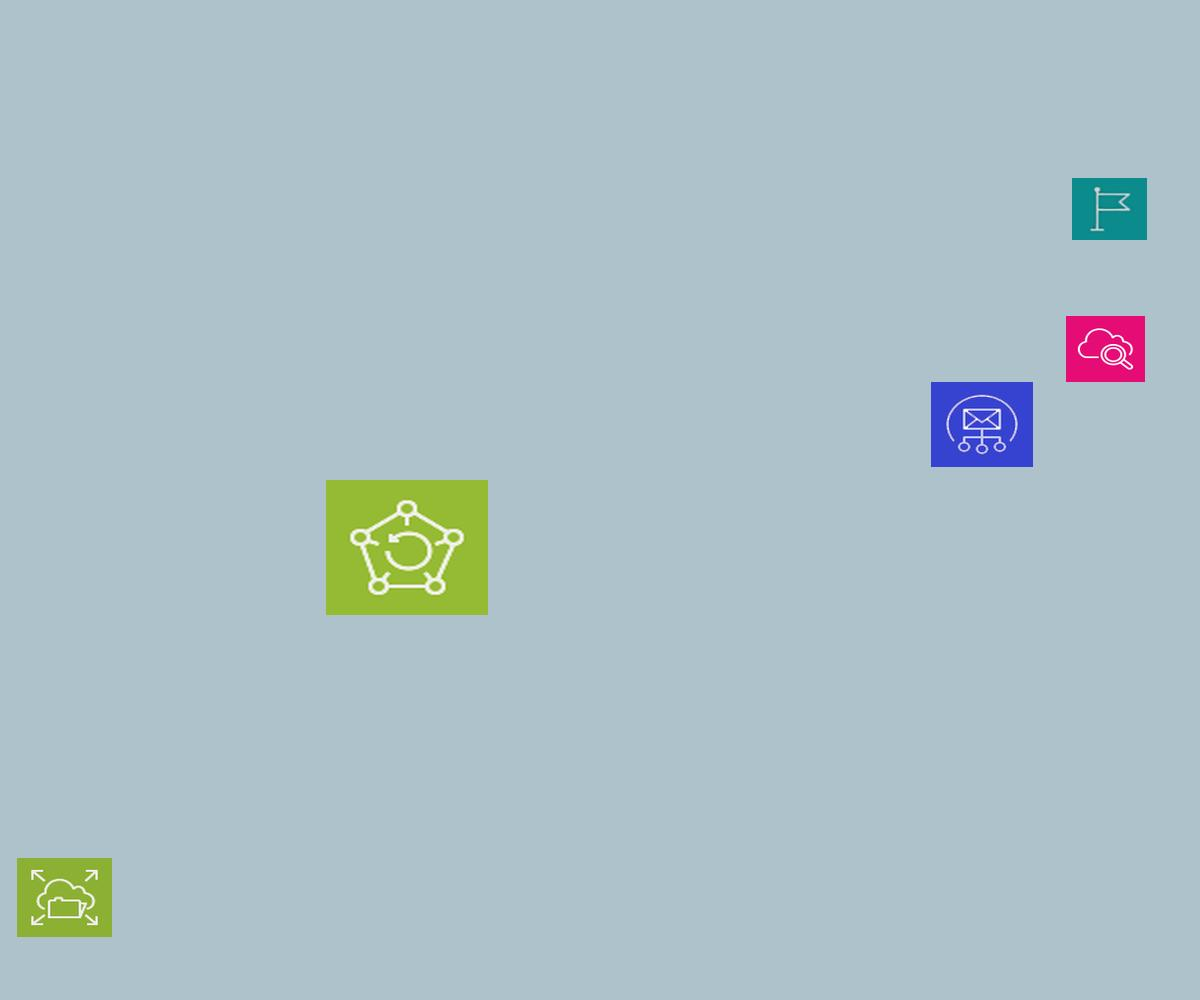AWS-Backup: (326, 480, 488, 615)
AWS-CloudWatch: (1066, 316, 1145, 382)
AWS-EFS: (17, 858, 112, 937)
AWS-Region: (1072, 178, 1147, 240)
AWS-Simple-Email-Service: (931, 382, 1033, 467)
